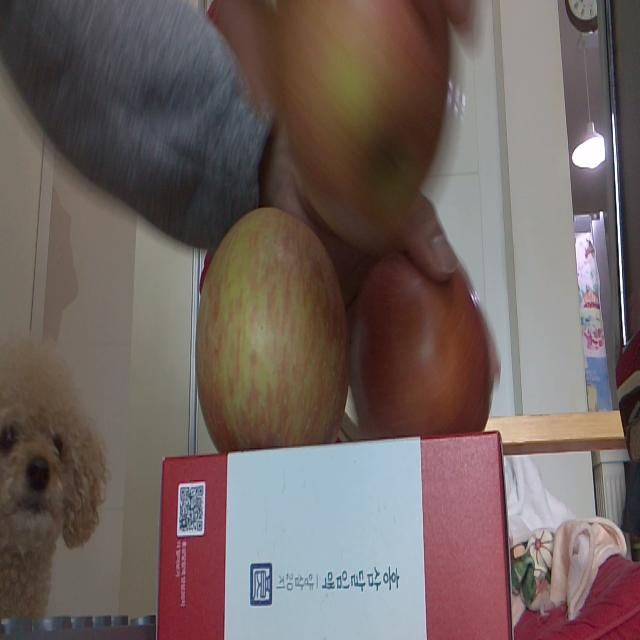apple: (284, 0, 449, 251), (196, 210, 348, 443), (350, 251, 494, 435)
